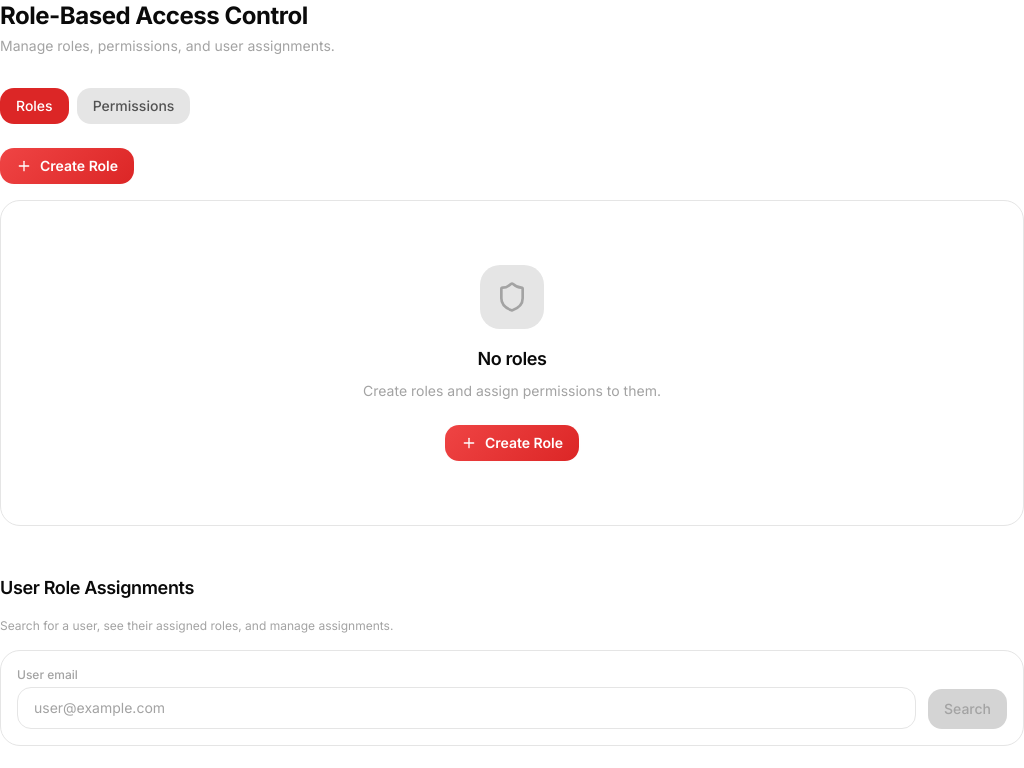
Scenario: AdminRbacPage — roles tab › shows the empty state
expect the heading "No roles" is shown: met, box [477,345,547,373]
Click the button "Create Role" below "No roles" at (512, 443), box [445,425,579,461]
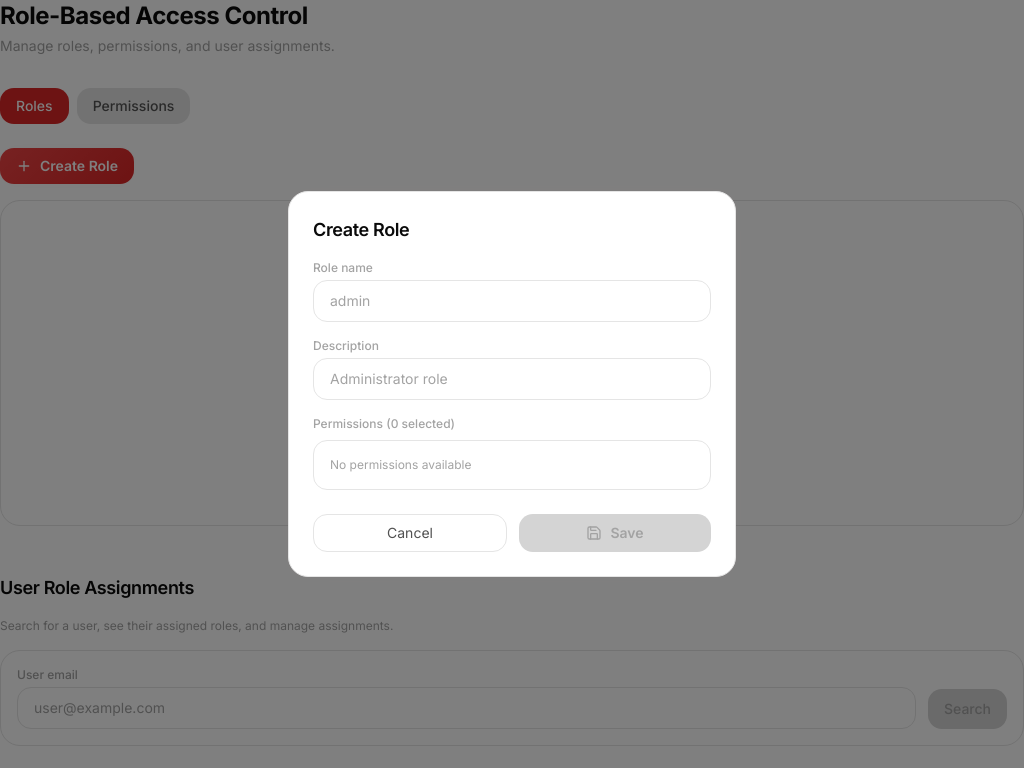
expect the field with placeholder "admin" is shown: met, box [313,280,711,322]
